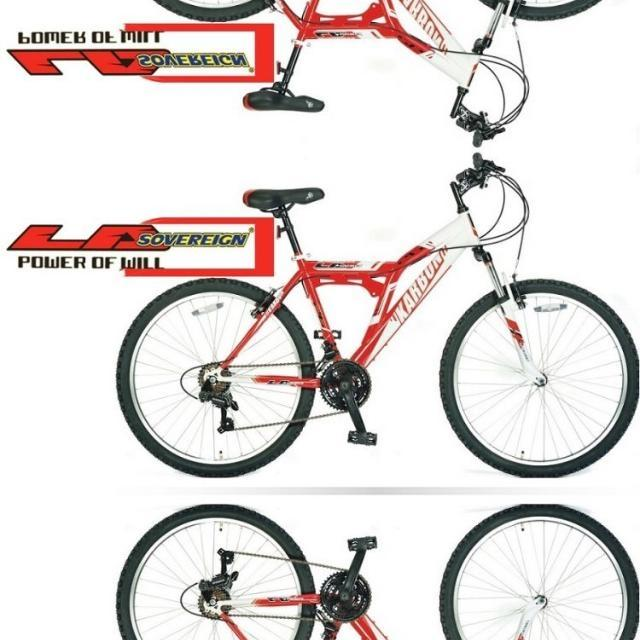obstacle: (120, 156, 640, 452), (120, 0, 639, 142), (120, 528, 639, 640)
